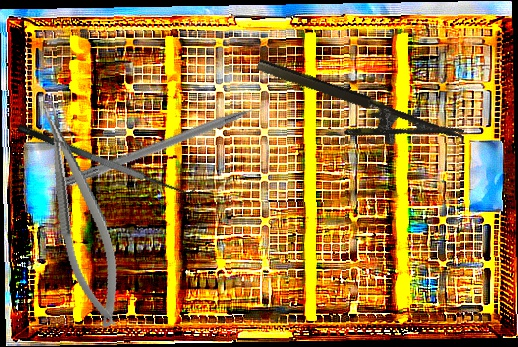Needle Holder: (245, 56, 465, 172), (31, 97, 132, 333)
Pusher: (62, 95, 283, 190)
Spatula Surgical: (16, 108, 199, 205)
